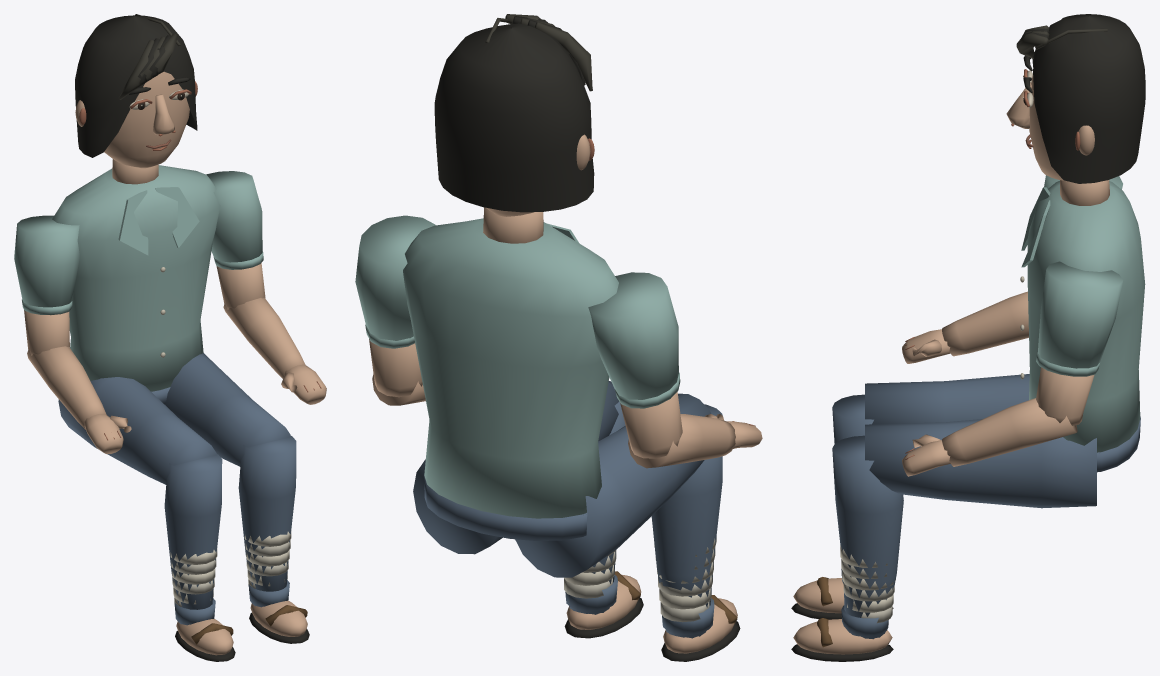
File: baoyu.glb
3 renders of one model, left to right at view 1: azimuth 30°, elevation 25°; view 2: azimuth 150°, elevation 25°; view 3: azimuth 270°, elevation 25°, orthographic. The views are drawn at different scales.
Visible parts, largest first — view 1: body.009_mesh, head.009_mesh, shinR.009_mesh, shinL.009_mesh, armL.009_mesh, legL.009_mesh, legR.009_mesh, armR.009_mesh, forearmL.009_mesh, forearmR.009_mesh; view 2: body.009_mesh, head.009_mesh, armL.009_mesh, shinL.009_mesh, legL.009_mesh, armR.009_mesh, shinR.009_mesh, forearmL.009_mesh, legR.009_mesh, forearmR.009_mesh; view 3: body.009_mesh, head.009_mesh, shinR.009_mesh, legR.009_mesh, armR.009_mesh, legL.009_mesh, forearmR.009_mesh, forearmL.009_mesh, shinL.009_mesh.
Boxes of the visible parts, x1,y1,x2,y2 form: body.009_mesh: [52, 159, 220, 404]; head.009_mesh: [75, 14, 197, 168]; shinR.009_mesh: [238, 436, 309, 643]; shinL.009_mesh: [164, 454, 235, 661]; armL.009_mesh: [14, 215, 79, 355]; legL.009_mesh: [58, 377, 216, 484]; legR.009_mesh: [165, 353, 290, 466]; armR.009_mesh: [206, 171, 265, 309]; forearmL.009_mesh: [27, 346, 131, 454]; forearmR.009_mesh: [223, 297, 326, 404]; body.009_mesh: [403, 207, 618, 540]; head.009_mesh: [434, 14, 594, 216]; armL.009_mesh: [588, 272, 682, 458]; shinL.009_mesh: [651, 404, 740, 661]; legL.009_mesh: [515, 393, 711, 577]; armR.009_mesh: [355, 215, 435, 397]; shinR.009_mesh: [564, 381, 643, 638]; forearmL.009_mesh: [628, 414, 762, 468]; legR.009_mesh: [413, 382, 619, 554]; forearmR.009_mesh: [372, 374, 425, 405]; body.009_mesh: [1020, 180, 1145, 472]; head.009_mesh: [1006, 14, 1145, 183]; shinR.009_mesh: [791, 435, 903, 661]; legR.009_mesh: [865, 419, 1096, 508]; armR.009_mesh: [1036, 261, 1122, 425]; legL.009_mesh: [865, 374, 1029, 424]; forearmR.009_mesh: [902, 398, 1077, 476]; forearmL.009_mesh: [902, 291, 1028, 363]; shinL.009_mesh: [791, 394, 893, 619].
Size of the model in its own units: 0.4896 by 1.07 by 0.5547.
